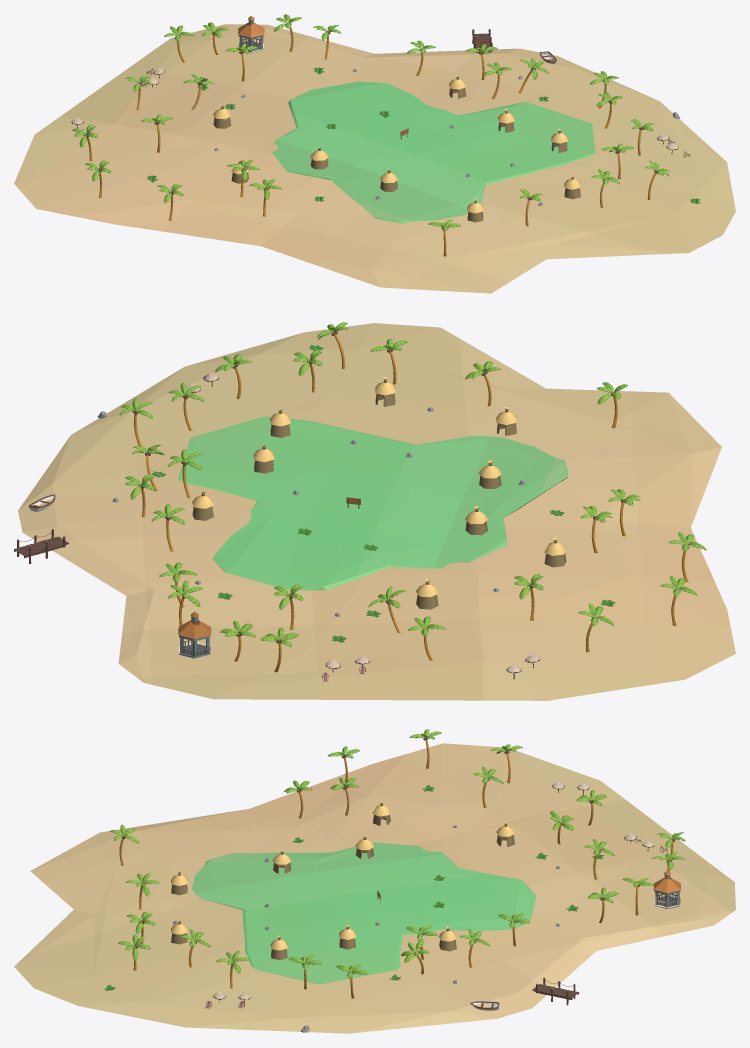
Rendered from world.glb.
3 views of the same model, one above another, from view 1: azimuth 30°, elevation 25°; view 2: azimuth 150°, elevation 25°; view 3: azimuth 270°, elevation 25° (orthographic). The views are drawn at different scales.
Parts seen in each view (by area): view 1: Cube.003_Cube.002, gazebo; view 2: Cube.003_Cube.002, gazebo, Dock_Long; view 3: Cube.003_Cube.002, gazebo, Dock_Long.
Part boxes in pixels (x1,y1,x2,y2): Cube.003_Cube.002: [14, 24, 735, 293]; gazebo: [238, 16, 264, 52]; Cube.003_Cube.002: [18, 323, 735, 700]; gazebo: [178, 611, 211, 658]; Dock_Long: [14, 529, 69, 563]; Cube.003_Cube.002: [14, 743, 735, 1033]; gazebo: [653, 870, 680, 908]; Dock_Long: [532, 977, 579, 1005].
Size of the model in its own units: 166 by 12.84 by 175.
145 materials, 18 textured.
